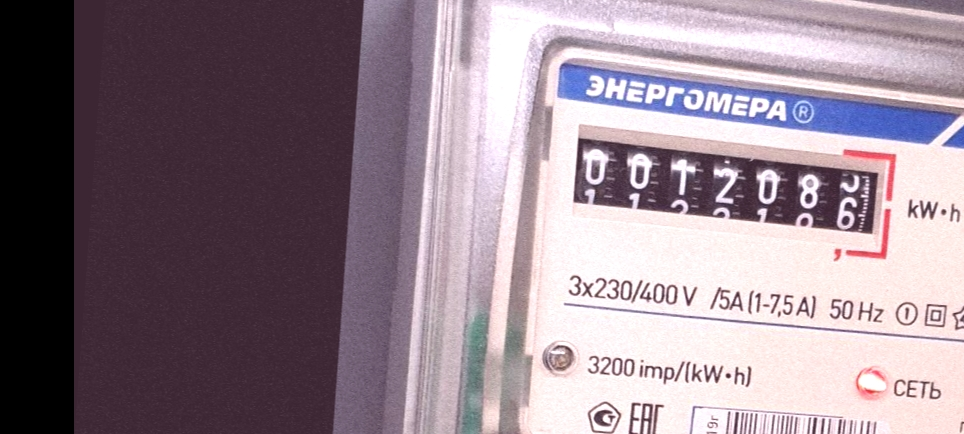0: (624, 148, 655, 192), (581, 143, 608, 187), (754, 165, 780, 206)
1: (668, 154, 693, 197)
2: (711, 164, 739, 205)
6: (831, 193, 858, 231)
8: (796, 169, 821, 211)
screen: (559, 110, 907, 273)
